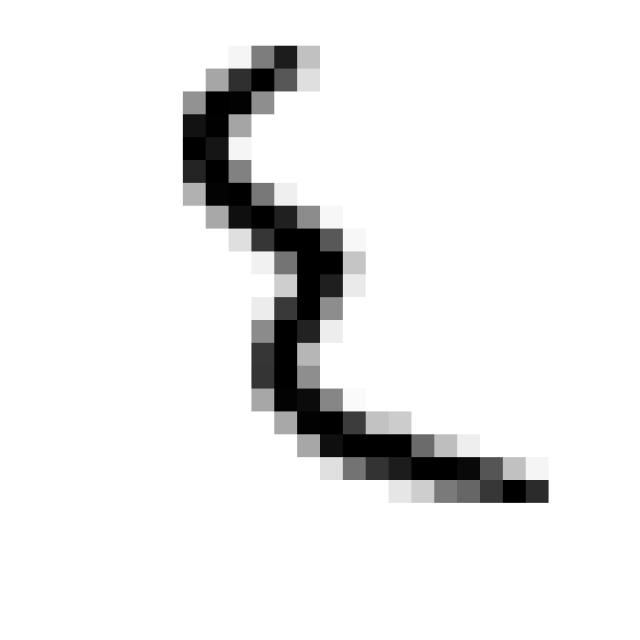4 -four-: (155, 20, 570, 528)
